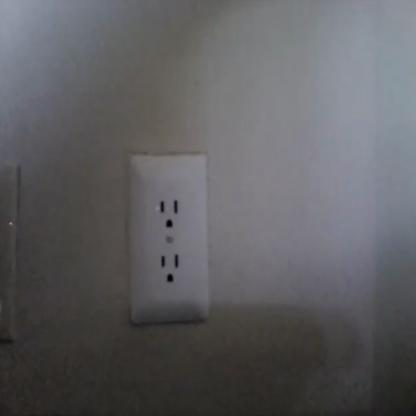OUTLET: (126, 153, 210, 325)
